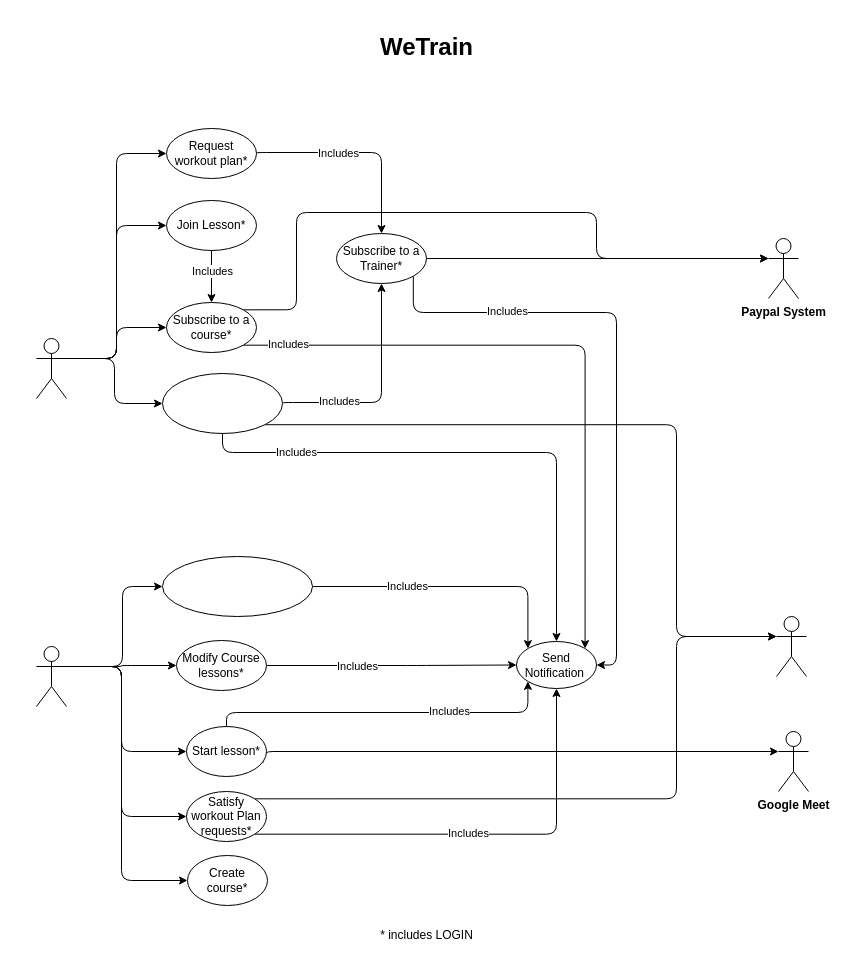
The diagram is 848 pixels wide and 963 high, and some of its shapes have lost their labels. The shapes that lost their labels are listed below. From the top down, each one's box as (x1, y1, x2, y2) in pixels, then its label:
(36, 338, 66, 398): Athlete
(162, 372, 282, 434): Send Email to Personal trainer*
(162, 556, 312, 616): Send Communication to Course participants*
(776, 616, 806, 676): Email System
(36, 646, 66, 706): Pers.Trainer
